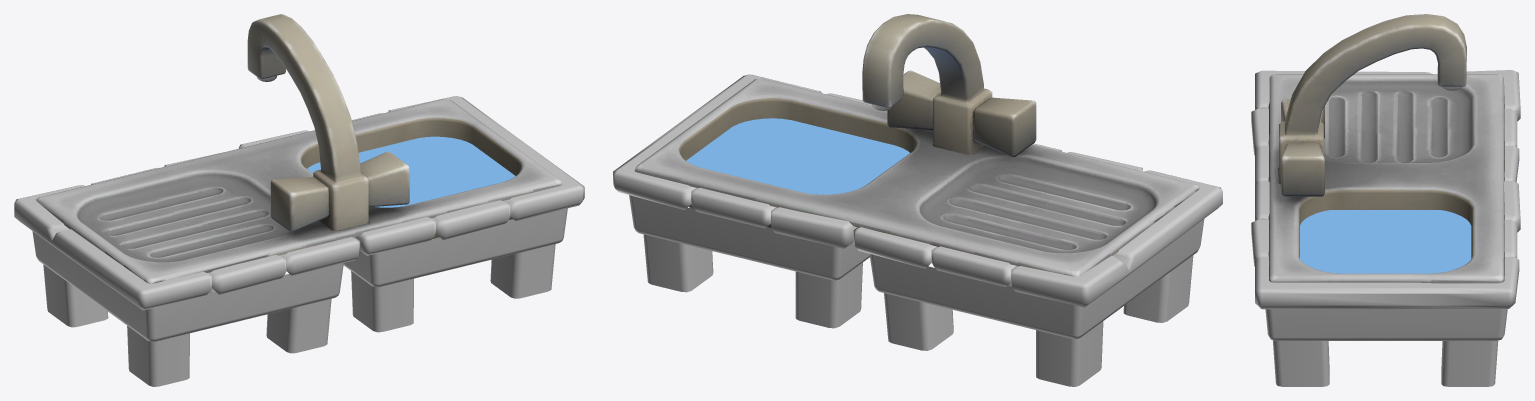
Rendered from m_wizard_sink_01.fbx.
3 views of the same model, side by side, from view 1: azimuth 30°, elevation 25°; view 2: azimuth 150°, elevation 25°; view 3: azimuth 270°, elevation 25° (orthographic). The views are drawn at different scales.
Parts seen in each view (by area): view 1: m_wizard_sink_01_0, m_wizard_sink_01_1, Plane; view 2: m_wizard_sink_01_0, m_wizard_sink_01_1, Plane; view 3: m_wizard_sink_01_0, m_wizard_sink_01_1, Plane.
Part boxes in pixels (x1=…): m_wizard_sink_01_0: x1=36, y1=14, x2=562, y2=283; m_wizard_sink_01_1: x1=14, y1=96, x2=584, y2=386; Plane: x1=307, y1=136, x2=515, y2=207; m_wizard_sink_01_0: x1=635, y1=14, x2=1199, y2=276; m_wizard_sink_01_1: x1=613, y1=74, x2=1222, y2=386; Plane: x1=686, y1=118, x2=909, y2=194; m_wizard_sink_01_0: x1=1268, y1=14, x2=1504, y2=283; m_wizard_sink_01_1: x1=1251, y1=70, x2=1520, y2=386; Plane: x1=1300, y1=210, x2=1471, y2=273.
Size of the model in its own units: 2.39 by 1.35 by 1.23.
